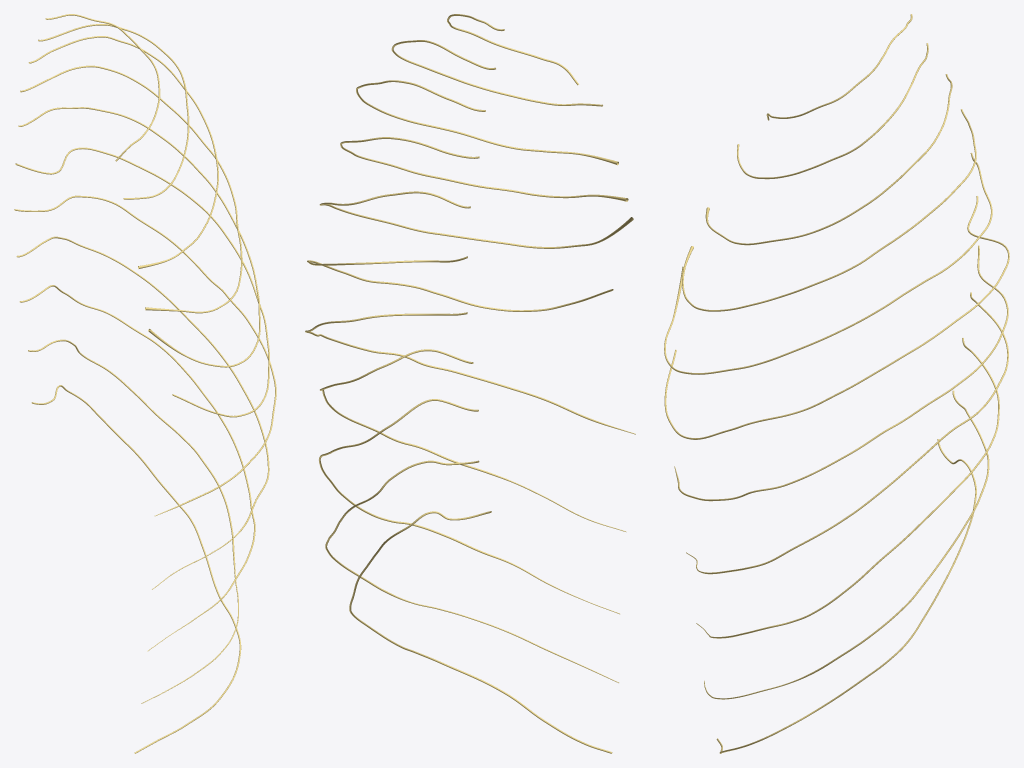
3 renders of one model, left to right at view 1: azimuth 30°, elevation 25°; view 2: azimuth 150°, elevation 25°; view 3: azimuth 270°, elevation 25°, orthographic. The views are drawn at different scales.
Parts seen in each view (by area): view 1: ZA_f1d21b4ce118f399; view 2: ZA_f1d21b4ce118f399; view 3: ZA_f1d21b4ce118f399.
Boxes of the visible parts, bbox=[...] form: ZA_f1d21b4ce118f399: bbox=[14, 14, 276, 753]; ZA_f1d21b4ce118f399: bbox=[305, 14, 635, 753]; ZA_f1d21b4ce118f399: bbox=[664, 14, 1009, 753].
Size of the model in its own units: 0.1252 by 0.4538 by 0.1956.
